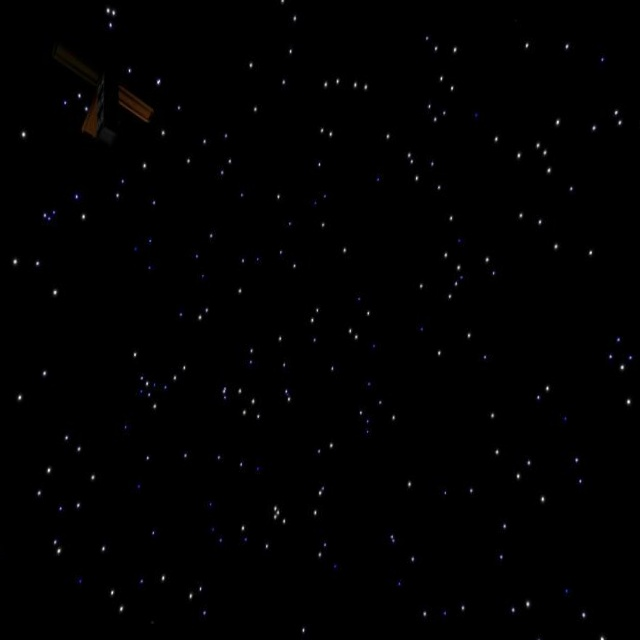medium_debris: (41, 40, 169, 149)
